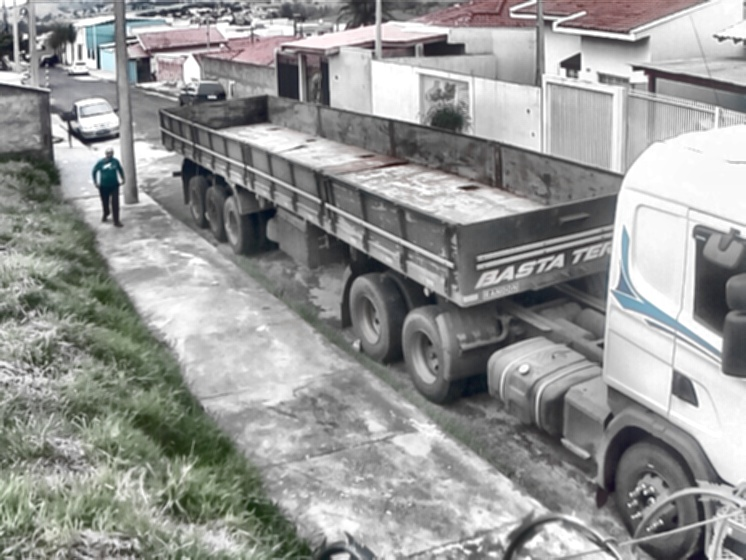person: (91, 145, 131, 231)
